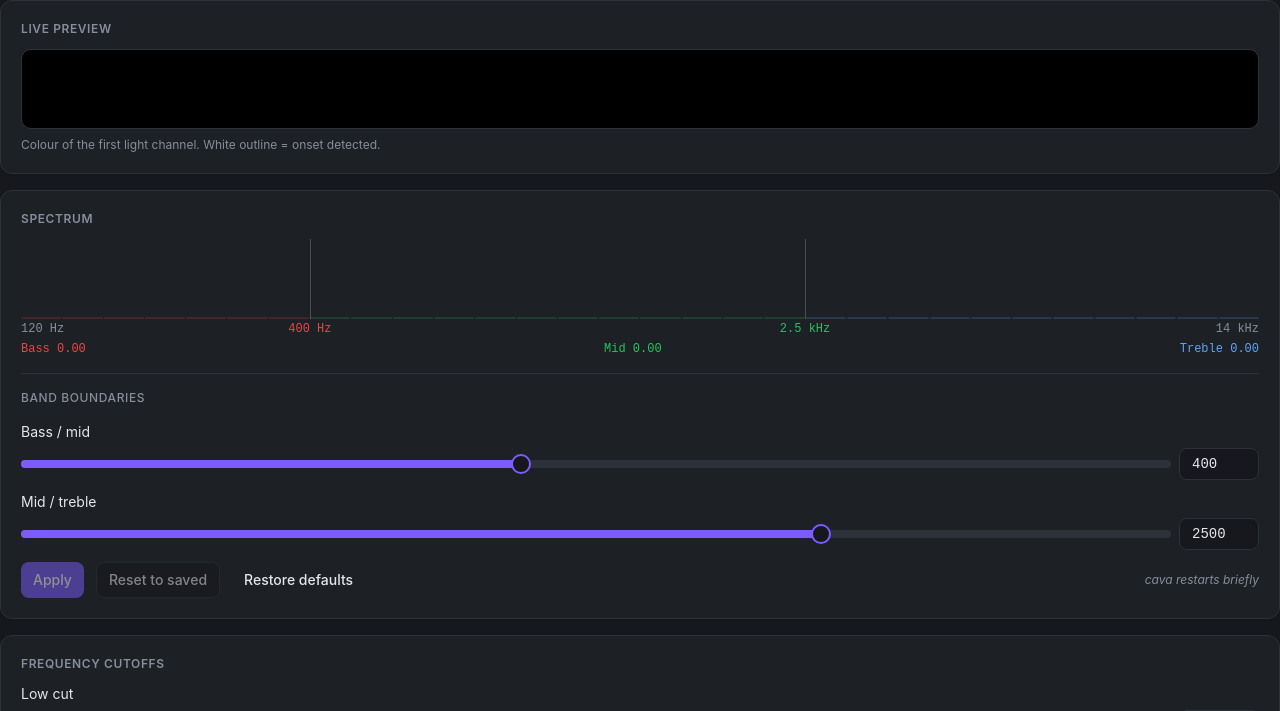
Test: NowPlaying — Reset to saved & Restore factory defaults › Bands — Restore factory defaults › Bass/mid: Restore defaults goes to DEFAULT value, not applied profile value
Click the button with test id "restore-defaults-bands": point(299, 580) [232,562,365,598]
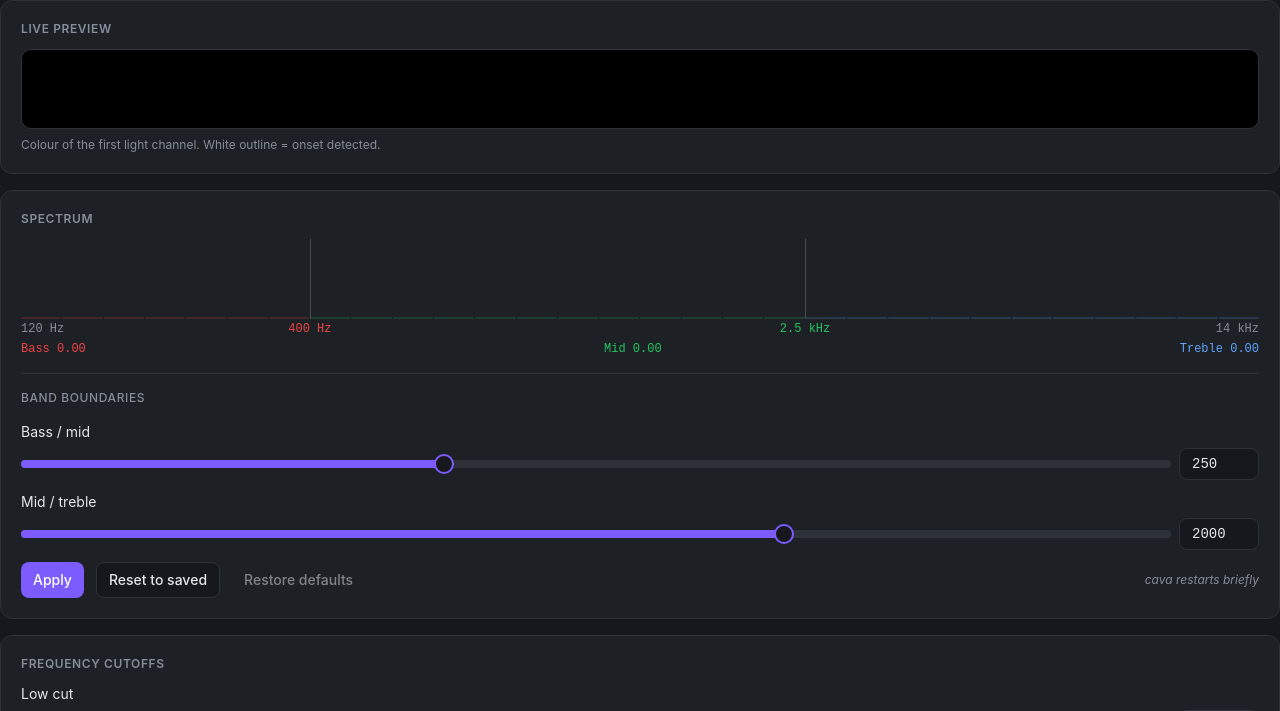
Now the number field with test id "bass-hz" holds "250", box [1179,448,1259,480]
Now the number field with test id "bass-hz" does not hold "400", box [1179,448,1259,480]
